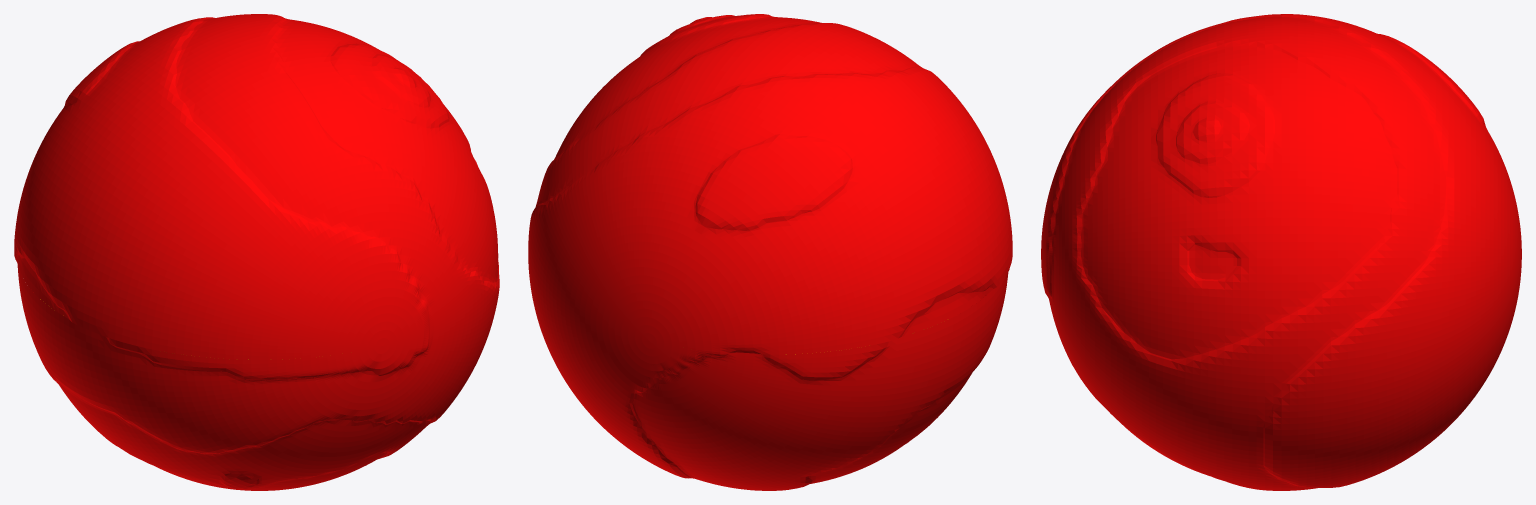
3 views of the same model, side by side, from view 1: azimuth 30°, elevation 25°; view 2: azimuth 150°, elevation 25°; view 3: azimuth 270°, elevation 25° (orthographic). The views are drawn at different scales.
Parts seen in each view (by area): view 1: Renderer Node; view 2: Renderer Node; view 3: Renderer Node.
Boxes of the visible parts, x1,y1,x2,y2 form: Renderer Node: (14,14,499,490); Renderer Node: (528,14,1012,490); Renderer Node: (1041,14,1521,490).
Bounding box in the file's own units: 1.63e+16 × 1.62e+16 × 1.65e+16.
